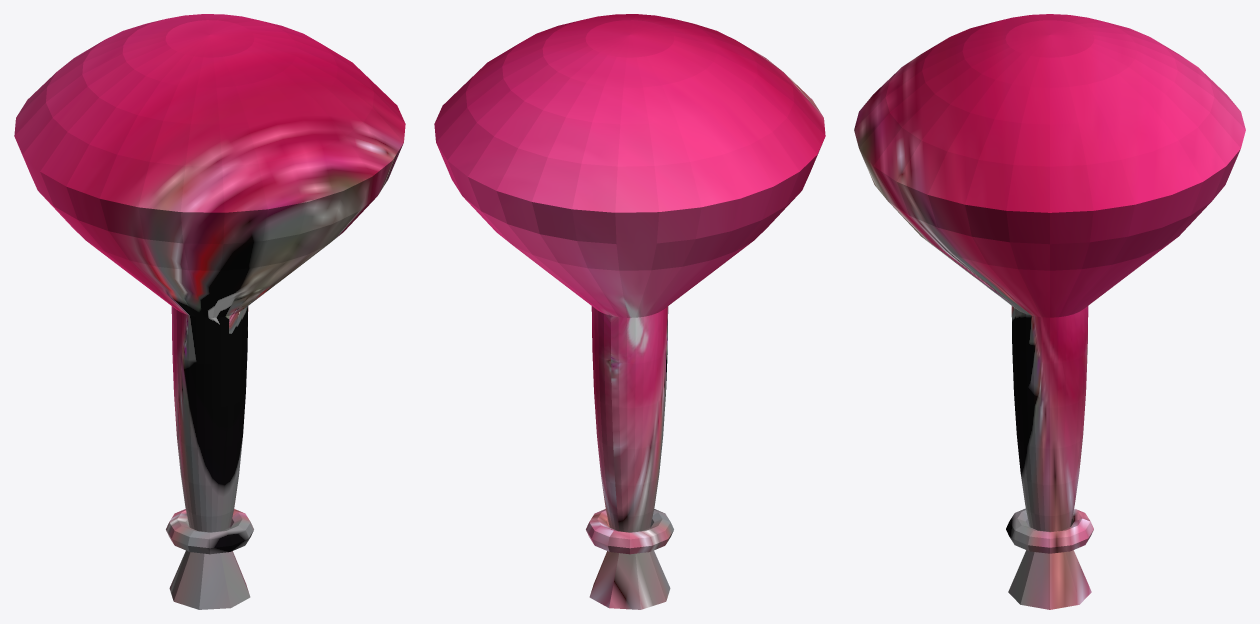
File: bloon_pink.glb
The picture shows the model from 3 angles, left to right: view 1: azimuth 30°, elevation 25°; view 2: azimuth 150°, elevation 25°; view 3: azimuth 270°, elevation 25°; orthographic projection.
Visible parts, largest first — view 1: bloon_pink; view 2: bloon_pink; view 3: bloon_pink.
Boxes of the visible parts, x1=… form: bloon_pink: x1=14, y1=14, x2=405, y2=609; bloon_pink: x1=434, y1=14, x2=825, y2=609; bloon_pink: x1=854, y1=14, x2=1245, y2=609.
Bounding box in the file's own units: 0.7965 × 1.25 × 0.7965.
Materials: 1 (1 with a texture image).
